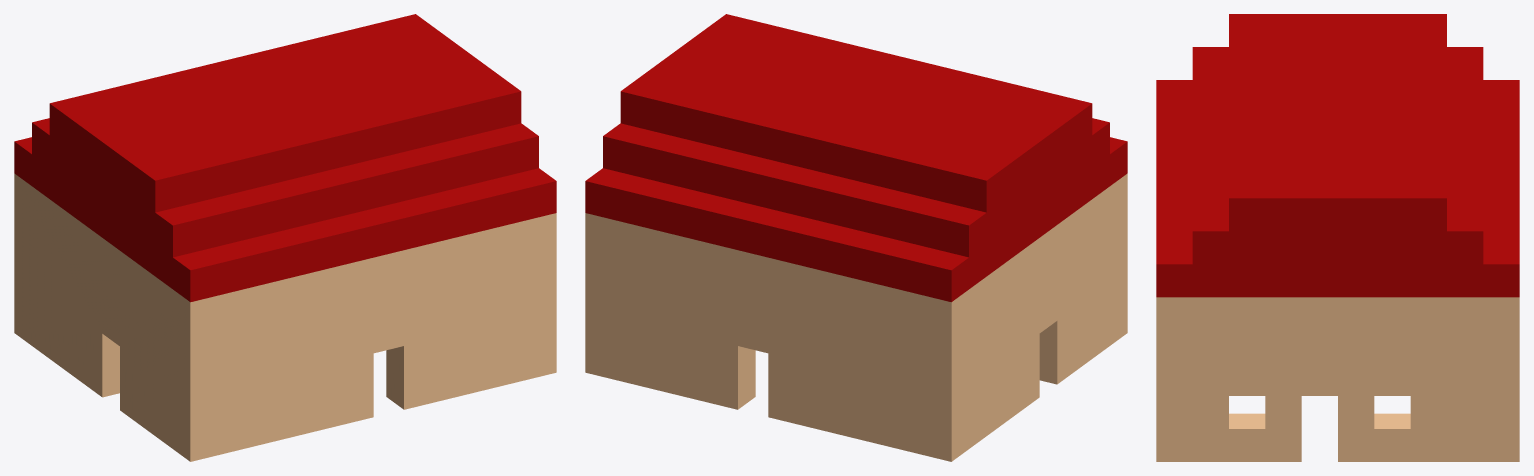
The model's file is mainescola.obj.
3 renders of one model, left to right at view 1: azimuth 30°, elevation 25°; view 2: azimuth 150°, elevation 25°; view 3: azimuth 270°, elevation 25°, orthographic. The views are drawn at different scales.
Bounding box in the file's own units: 1.2 × 0.8 × 1.
Materials: 1 (1 with a texture image).
